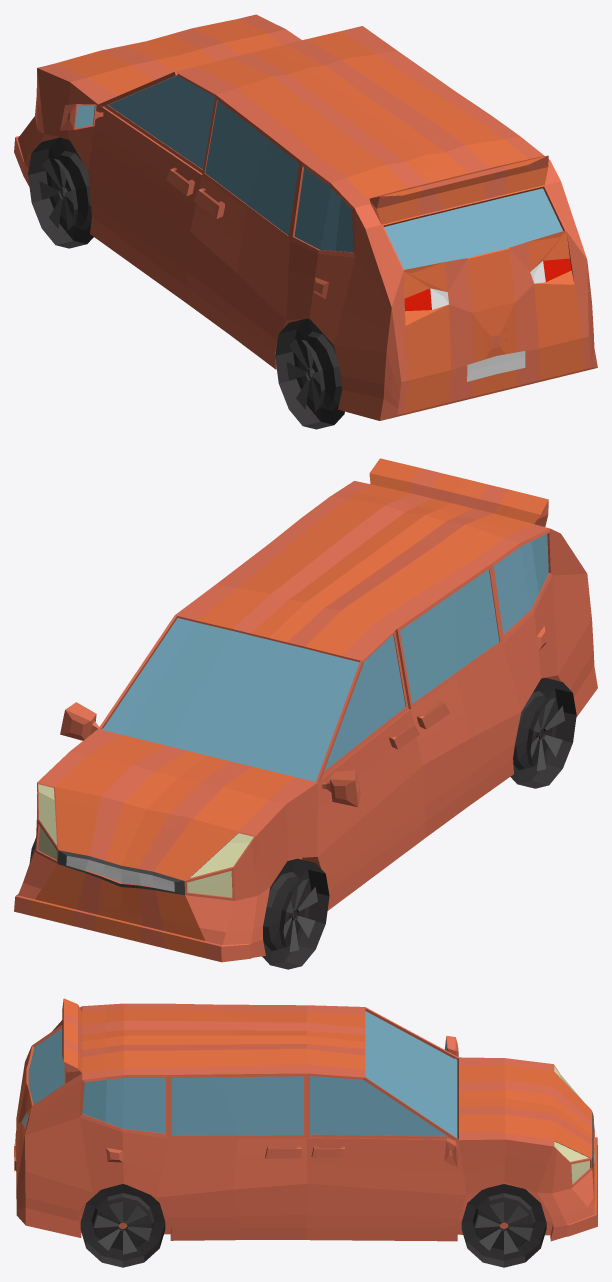
File: Van-maybe.fbx
3 views of the same model, one above another, from view 1: azimuth 30°, elevation 25°; view 2: azimuth 150°, elevation 25°; view 3: azimuth 270°, elevation 25° (orthographic). The views are drawn at different scales.
Parts seen in each view (by area): view 1: Van; view 2: Van; view 3: Van.
Part boxes in pixels (left/top/right/bottom): Van: left=14, top=14, right=597, bottom=429; Van: left=14, top=458, right=597, bottom=969; Van: left=14, top=998, right=597, bottom=1267.
Size of the model in its own units: 228 by 182 by 503.
